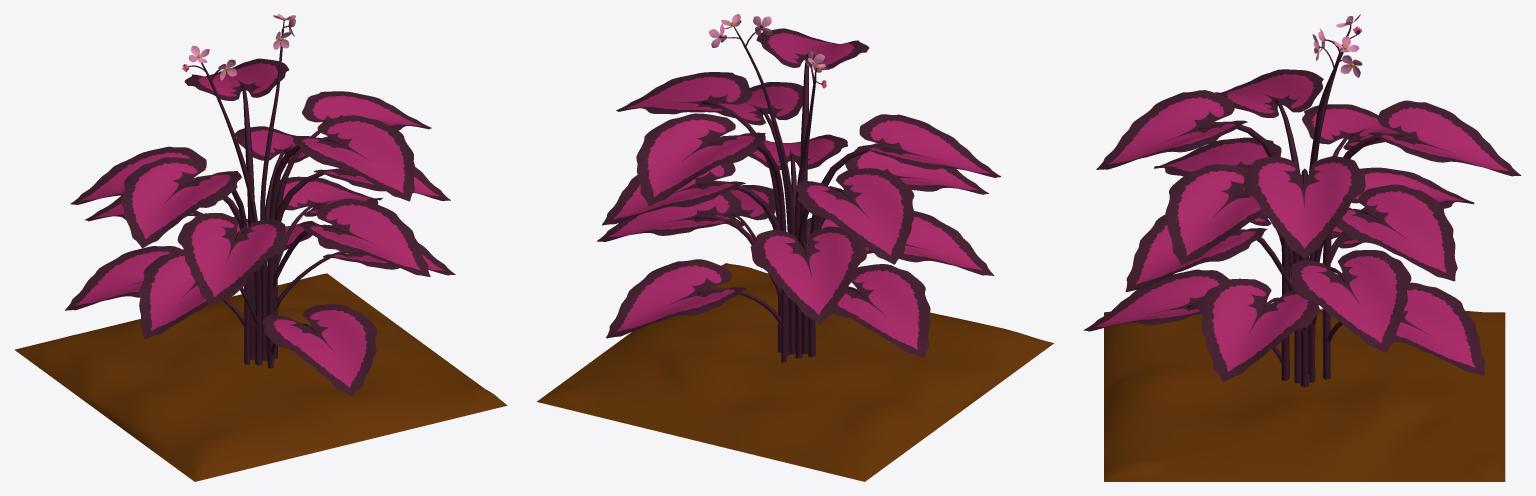
Rendered from begonia-rex-p4-bloom.glb.
3 renders of one model, left to right at view 1: azimuth 30°, elevation 25°; view 2: azimuth 150°, elevation 25°; view 3: azimuth 270°, elevation 25°, orthographic. The views are drawn at different scales.
Visible parts, largest first — view 1: 4_nft_bloom; view 2: 4_nft_bloom; view 3: 4_nft_bloom.
Boxes of the visible parts, box(x1,y1,x2,y2) form: 4_nft_bloom: box(14, 14, 507, 481); 4_nft_bloom: box(537, 14, 1053, 481); 4_nft_bloom: box(1083, 14, 1521, 481).
Bounding box in the file's own units: 0.7395 × 0.7286 × 0.7638.
Materials: 7 (1 with a texture image).
